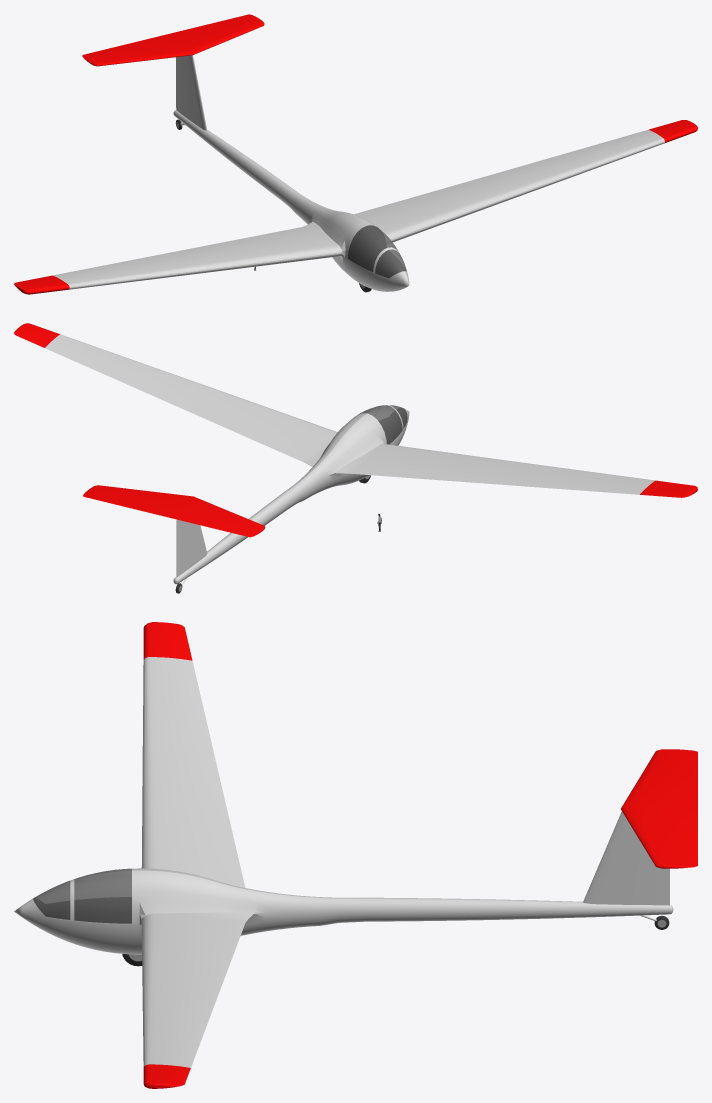
3 renders of one model, top to bottom at view 1: azimuth 30°, elevation 25°; view 2: azimuth 150°, elevation 25°; view 3: azimuth 270°, elevation 25°, orthographic. The views are drawn at different scales.
Visible parts, largest first — view 1: Glider_Plane (×7); view 2: Glider_Plane (×6); view 3: Glider_Plane (×7).
Part boxes in pixels (x1,y1,x2,y2): Glider_Plane (×7): [14, 14, 697, 294]; Glider_Plane (×6): [14, 323, 697, 584]; Glider_Plane (×7): [14, 622, 697, 1088].
Size of the model in its own units: 2767 by 1726 by 441.
